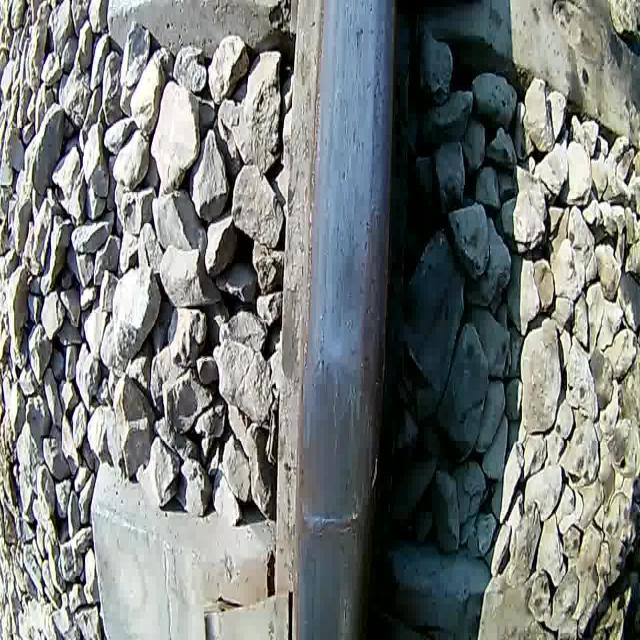Spallings: (368, 448, 382, 494)
Squats: (292, 349, 371, 583)
